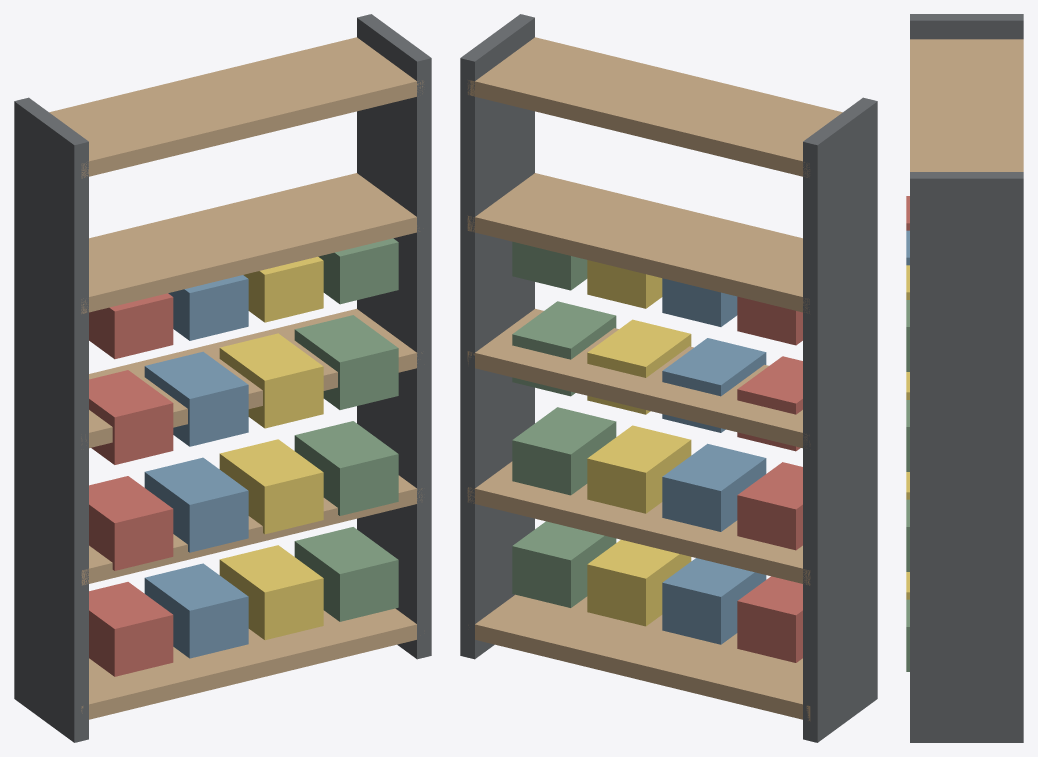
The model's file is parts_rack_01.glb.
The picture shows the model from 3 angles, left to right: view 1: azimuth 30°, elevation 25°; view 2: azimuth 150°, elevation 25°; view 3: azimuth 270°, elevation 25°; orthographic projection. The views are drawn at different scales.
Visible parts, largest first — view 1: side-0.525, side0.525, shelf4, shelf3, shelf0, bin0_2, bin0_1, bin0_3, bin1_1, bin1_2, bin1_3, bin0_0 (+11 smaller); view 2: side-0.525, side0.525, shelf4, shelf3, shelf0, shelf2, shelf1, bin1_3, bin1_1, bin1_2, bin0_2, bin0_1 (+11 smaller); view 3: side0.525, shelf4, side-0.525, bin0_3, bin1_3, bin2_3, bin3_3.
Boxes of the visible parts, x1,y1,x2,y2 form: side-0.525: (14,97,88,742); side0.525: (357,14,431,659); shelf4: (49,37,423,178); shelf3: (81,173,419,313); shelf0: (81,608,416,719); bin0_2: (219,545,323,640); bin0_1: (144,563,248,658); bin0_3: (294,527,398,621); bin1_1: (144,457,248,552); bin1_2: (219,439,323,534); bin1_3: (294,421,398,515); bin0_0: (89,582,173,676); side-0.525: (803,97,877,742); side0.525: (460,14,534,659); shelf4: (467,37,842,177); shelf3: (467,173,809,313); shelf0: (468,594,810,721); shelf2: (467,308,810,449); shelf1: (467,461,810,585); bin1_3: (512,407,616,495); bin1_1: (662,443,766,531); bin1_2: (587,425,691,513); bin0_2: (587,539,691,626); bin0_1: (662,558,766,644); side0.525: (910,172,1023,742); shelf4: (910,39,1023,171); side-0.525: (910,14,1023,39); bin0_3: (906,599,909,671); bin1_3: (906,499,909,571); bin2_3: (906,400,909,471); bin3_3: (906,300,909,371).
Bounding box in the file's own units: 1.1 × 1.75 × 0.33.
